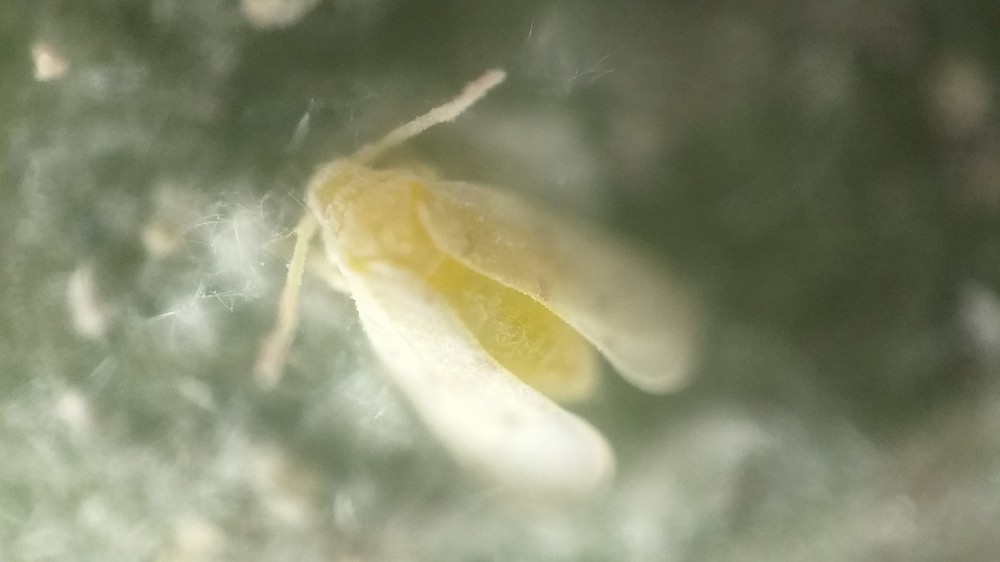Mosca Blanca: (226, 58, 729, 541)
